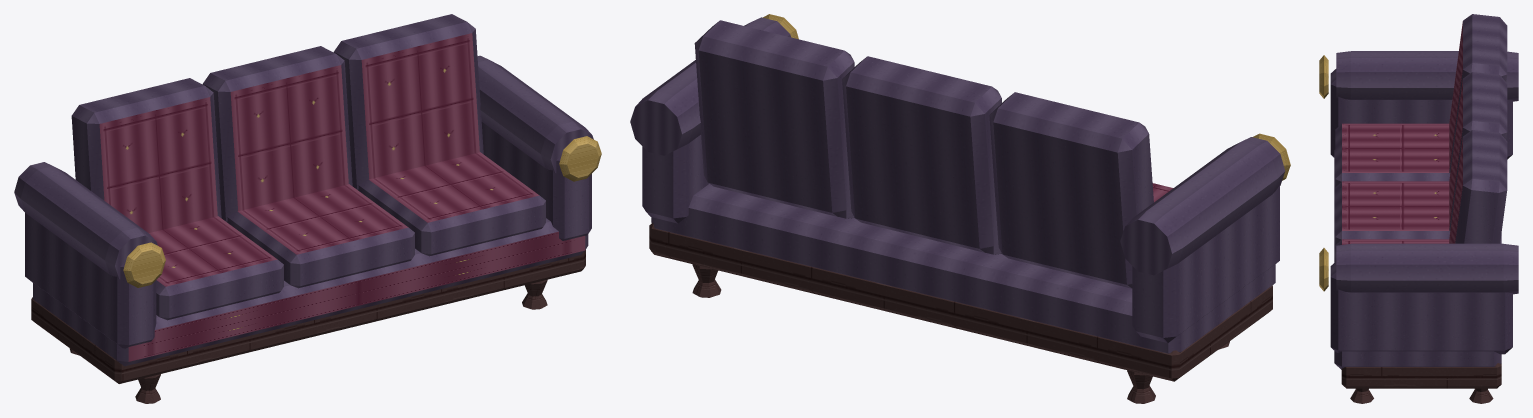
File: MD_21_GrandSofa.fbx
3 renders of one model, left to right at view 1: azimuth 30°, elevation 25°; view 2: azimuth 150°, elevation 25°; view 3: azimuth 270°, elevation 25°, orthographic. The views are drawn at different scales.
Visible parts, largest first — view 1: MD_21_GrandSofa_back_cushion_2, MD_21_GrandSofa_back_cushion_1, MD_21_GrandSofa_back_cushion_0, MD_21_GrandSofa_upholstered_base, MD_21_GrandSofa_seat_cushion_2, MD_21_GrandSofa_seat_cushion_1, MD_21_GrandSofa_timber_apron, MD_21_GrandSofa_seat_cushion_0, MD_21_GrandSofa_curved_arm_base, MD_21_GrandSofa_rolled_arm, MD_21_GrandSofa_rolled_arm.001, MD_21_GrandSofa_curved_arm_base.001 (+4 smaller); view 2: MD_21_GrandSofa_upholstered_base, MD_21_GrandSofa_back_cushion_2, MD_21_GrandSofa_back_cushion_1, MD_21_GrandSofa_back_cushion_0, MD_21_GrandSofa_timber_apron, MD_21_GrandSofa_rolled_arm, MD_21_GrandSofa_curved_arm_base, MD_21_GrandSofa_rolled_arm.001, MD_21_GrandSofa_curved_arm_base.001, MD_21_GrandSofa_turned_leg.001, MD_21_GrandSofa_turned_leg.003; view 3: MD_21_GrandSofa_curved_arm_base.001, MD_21_GrandSofa_rolled_arm.001, MD_21_GrandSofa_seat_cushion_1, MD_21_GrandSofa_seat_cushion_0, MD_21_GrandSofa_rolled_arm, MD_21_GrandSofa_back_cushion_2, MD_21_GrandSofa_curved_arm_base, MD_21_GrandSofa_timber_apron, MD_21_GrandSofa_back_cushion_1, MD_21_GrandSofa_back_cushion_0, MD_21_GrandSofa_upholstered_base, MD_21_GrandSofa_seat_cushion_2 (+4 smaller).
Part boxes in pixels (<box>): MD_21_GrandSofa_back_cushion_2: <box>333,14,483,189</box>; MD_21_GrandSofa_back_cushion_1: <box>202,46,352,221</box>; MD_21_GrandSofa_back_cushion_0: <box>71,78,221,232</box>; MD_21_GrandSofa_upholstered_base: <box>33,218,588,366</box>; MD_21_GrandSofa_seat_cushion_2: <box>358,152,545,256</box>; MD_21_GrandSofa_seat_cushion_1: <box>227,184,414,288</box>; MD_21_GrandSofa_timber_apron: <box>31,250,585,383</box>; MD_21_GrandSofa_seat_cushion_0: <box>149,216,283,320</box>; MD_21_GrandSofa_curved_arm_base: <box>25,213,156,348</box>; MD_21_GrandSofa_rolled_arm: <box>14,162,157,279</box>; MD_21_GrandSofa_rolled_arm.001: <box>477,55,593,172</box>; MD_21_GrandSofa_curved_arm_base.001: <box>481,122,591,240</box>; MD_21_GrandSofa_upholstered_base: <box>651,184,1275,353</box>; MD_21_GrandSofa_back_cushion_2: <box>694,20,854,216</box>; MD_21_GrandSofa_back_cushion_1: <box>842,56,1001,252</box>; MD_21_GrandSofa_back_cushion_0: <box>989,92,1153,288</box>; MD_21_GrandSofa_timber_apron: <box>649,223,1272,381</box>; MD_21_GrandSofa_rolled_arm: <box>1120,137,1285,275</box>; MD_21_GrandSofa_curved_arm_base: <box>1132,185,1279,342</box>; MD_21_GrandSofa_rolled_arm.001: <box>630,17,790,155</box>; MD_21_GrandSofa_curved_arm_base.001: <box>642,135,708,223</box>; MD_21_GrandSofa_turned_leg.001: <box>1127,370,1155,403</box>; MD_21_GrandSofa_turned_leg.003: <box>692,264,721,297</box>; MD_21_GrandSofa_curved_arm_base.001: <box>1330,261,1512,354</box>; MD_21_GrandSofa_rolled_arm.001: <box>1336,243,1518,294</box>; MD_21_GrandSofa_seat_cushion_1: <box>1335,181,1450,244</box>; MD_21_GrandSofa_seat_cushion_0: <box>1335,123,1450,186</box>; MD_21_GrandSofa_rolled_arm: <box>1336,51,1518,101</box>; MD_21_GrandSofa_back_cushion_2: <box>1449,130,1507,243</box>; MD_21_GrandSofa_curved_arm_base: <box>1330,69,1512,159</box>; MD_21_GrandSofa_timber_apron: <box>1341,363,1501,388</box>; MD_21_GrandSofa_back_cushion_1: <box>1449,72,1507,230</box>; MD_21_GrandSofa_back_cushion_0: <box>1449,14,1507,172</box>; MD_21_GrandSofa_upholstered_base: <box>1334,150,1501,369</box>; MD_21_GrandSofa_seat_cushion_2: <box>1335,239,1449,261</box>.
Bounding box in the file's own units: 2.73 × 1.3 × 1.07.
Materials: 4 (4 with a texture image).
